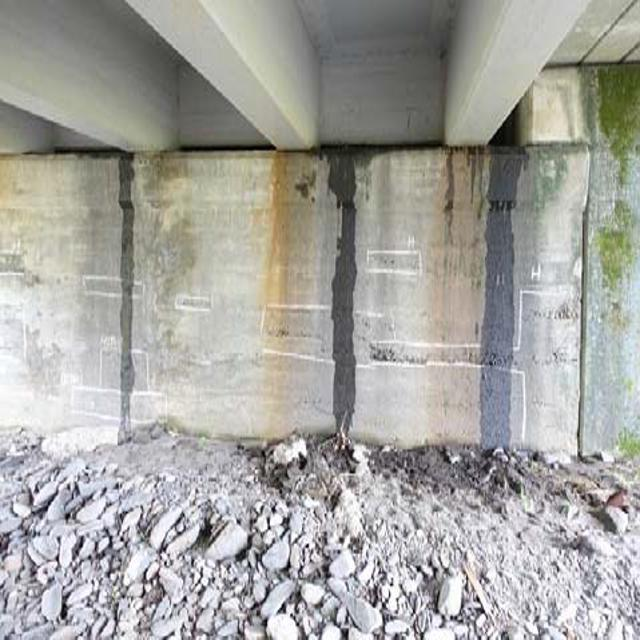leakage: (443, 127, 524, 449), (314, 133, 379, 446), (107, 152, 150, 438)
